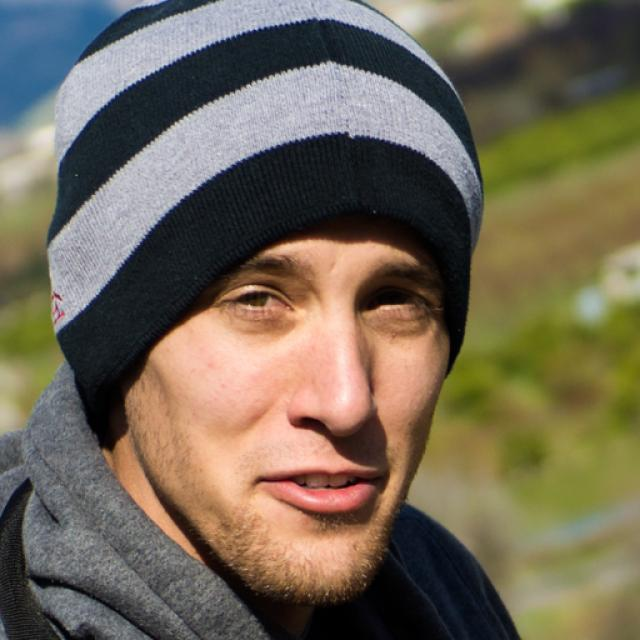Wrinkle: (216, 308, 303, 341), (363, 307, 428, 334)
